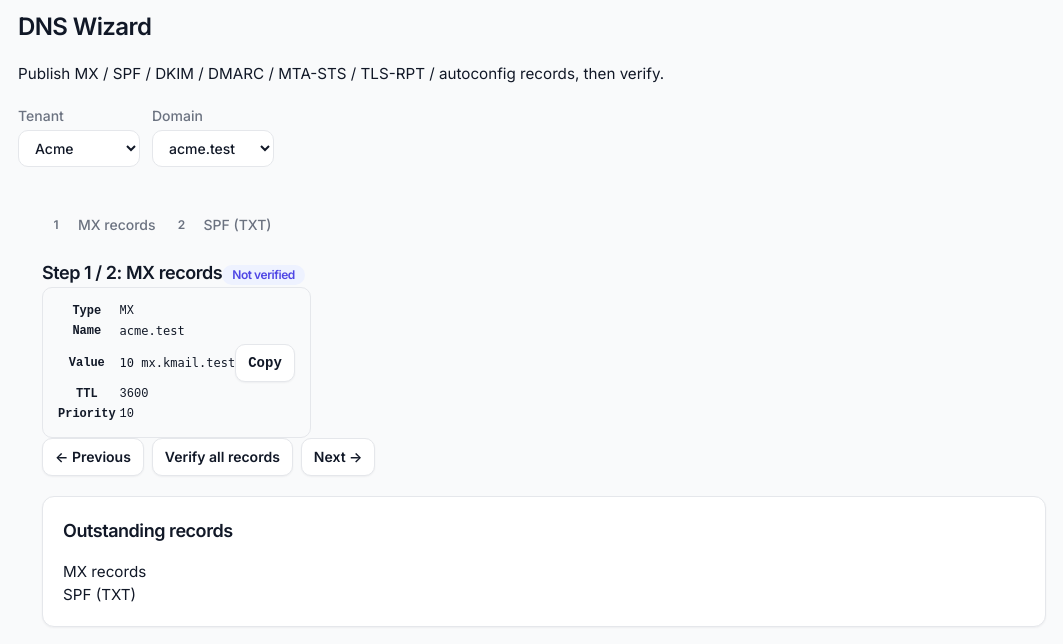
Test: <DnsWizard /> › navigates to the next step with the Next control
Select "Acme" in the dropdown labelled "Tenant" at (79, 148), box [18, 130, 140, 167]
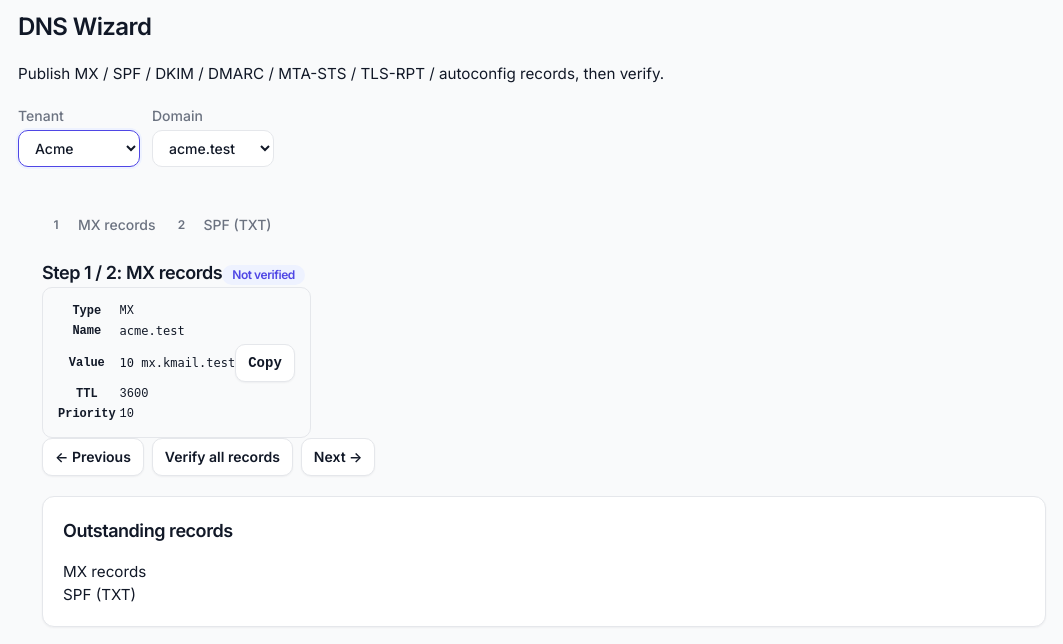
Select "acme.test" in the dropdown labelled "Domain" at (213, 148), box [152, 130, 274, 167]
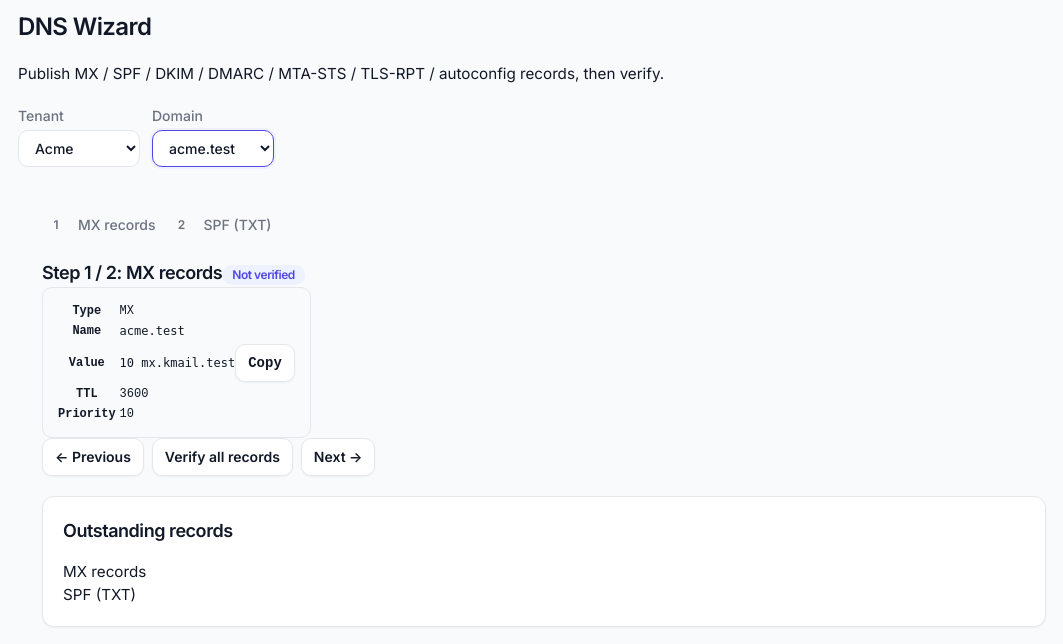
Check: the heading "Step 1 / 2: MX records Not verified" is shown, box [42, 262, 305, 285]
Click the button "Next →" at (338, 457), box [301, 438, 375, 476]
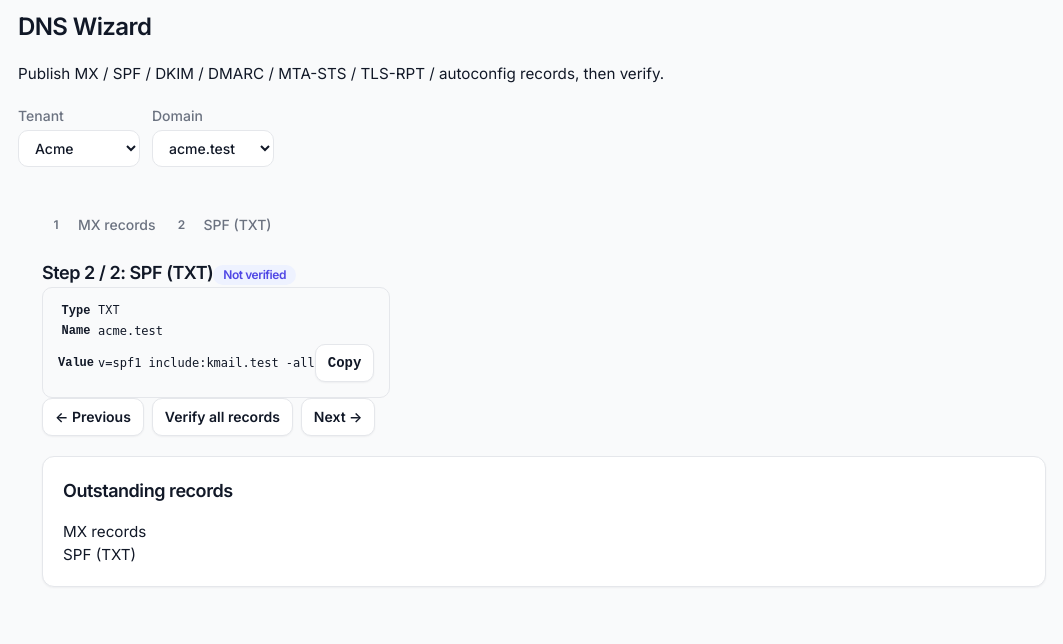
Check: the heading "Step 2 / 2: SPF (TXT) Not verified" is shown, box [42, 262, 296, 285]
